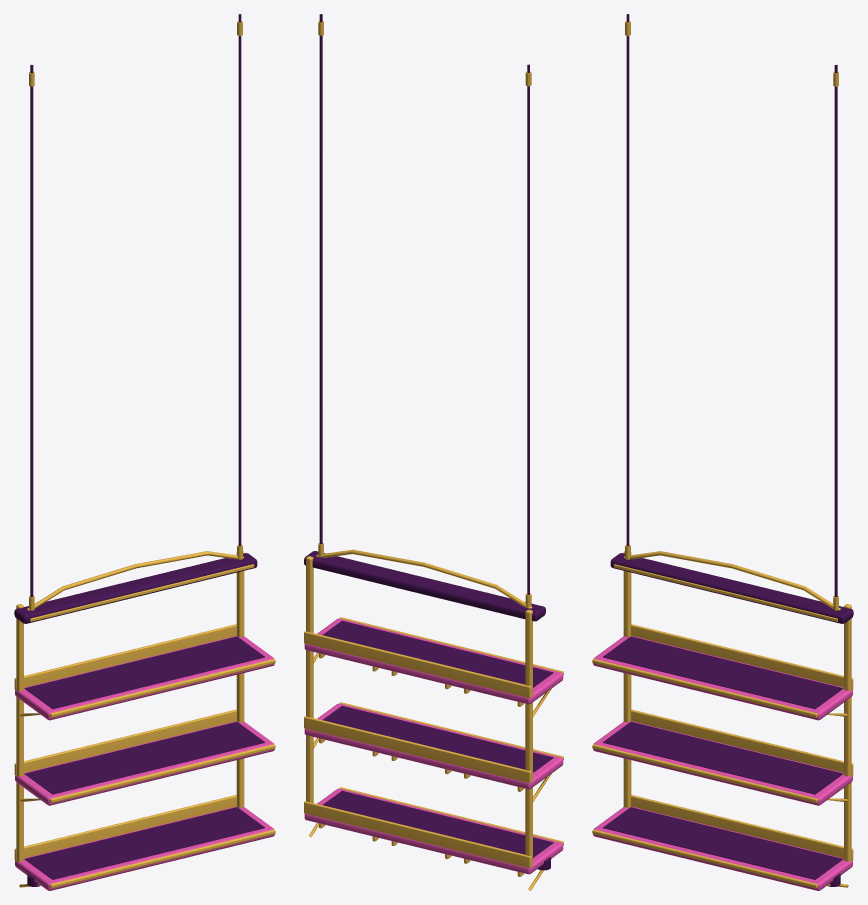
File: shelf-unit.glb
3 renders of one model, left to right at view 1: azimuth 30°, elevation 25°; view 2: azimuth 150°, elevation 25°; view 3: azimuth 330°, elevation 25°, orthographic.
Visible parts, largest first — view 1: velvet_inlay_0, velvet_inlay_2, velvet_inlay_1, top_crossbar, rear_lip_0, rear_lip_1, rear_lip_2, deck_0, deck_1, deck_2, suspension_cable, suspension_cable.001 (+7 smaller); view 2: velvet_inlay_1, velvet_inlay_2, velvet_inlay_0, top_crossbar, rear_lip_2, rear_lip_0, rear_lip_1, deck_0, deck_1, deck_2, suspension_cable.001, side_spine (+7 smaller); view 3: velvet_inlay_0, velvet_inlay_2, velvet_inlay_1, top_crossbar, rear_lip_0, rear_lip_1, rear_lip_2, deck_0, deck_1, deck_2, suspension_cable.001, suspension_cable (+7 smaller).
Boxes of the visible parts, x1,y1,x2,y2 form: velvet_inlay_0: (24,636,264,709); velvet_inlay_2: (24,807,264,879); velvet_inlay_1: (25,722,264,794); top_crossbar: (14,553,257,623); rear_lip_0: (14,624,236,690); rear_lip_1: (14,709,236,775); rear_lip_2: (14,795,236,860); deck_0: (15,635,274,720); deck_1: (15,721,274,805); deck_2: (15,806,274,890); suspension_cable: (30,65,33,597); suspension_cable.001: (238,14,241,546); velvet_inlay_1: (322,706,553,772); velvet_inlay_2: (322,791,553,857); velvet_inlay_0: (322,620,553,687); top_crossbar: (304,551,545,621); rear_lip_2: (304,801,531,868); rear_lip_0: (304,631,531,698); rear_lip_1: (304,716,531,783); deck_0: (304,618,563,704); deck_1: (304,703,563,789); deck_2: (304,788,563,874); suspension_cable.001: (319,14,322,544); side_spine: (525,609,532,866); velvet_inlay_0: (603,636,843,709); velvet_inlay_2: (603,807,843,879); velvet_inlay_1: (603,722,842,794); top_crossbar: (610,553,853,623); rear_lip_0: (631,624,853,690); rear_lip_1: (631,709,853,775); rear_lip_2: (631,795,853,860); deck_0: (593,635,852,720); deck_1: (593,721,852,805); deck_2: (593,806,852,890); suspension_cable.001: (834,65,837,597); suspension_cable: (626,14,629,546).
Bounding box in the file's own units: 2.7 × 9.07 × 0.7175.
